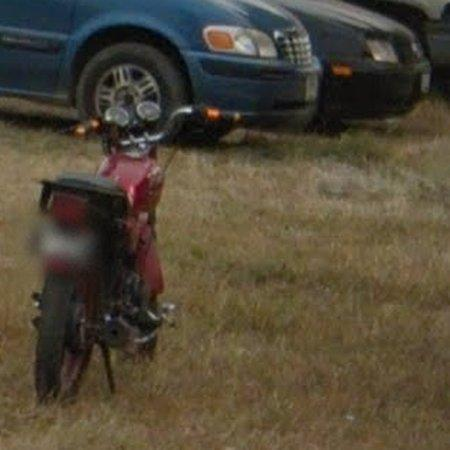motorcycles: (35, 147, 164, 402)
